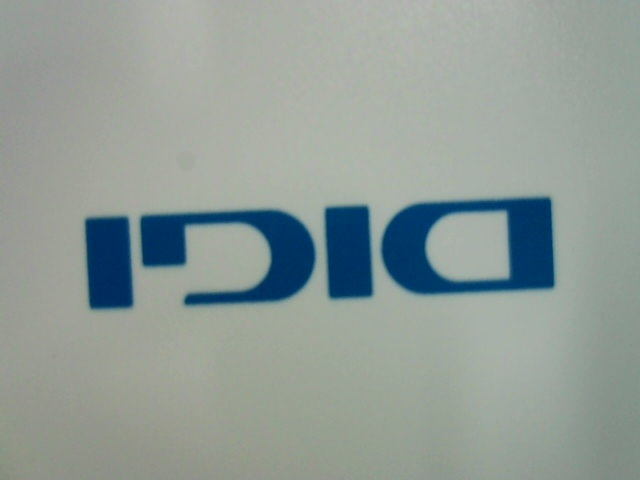BL_DIGI: (69, 177, 573, 315)
